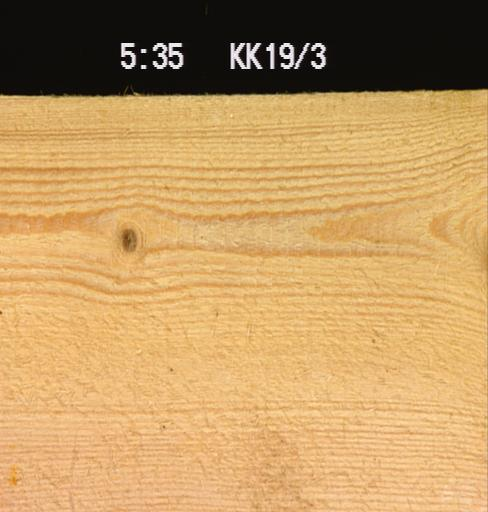sound_knot: (118, 225, 138, 252)
